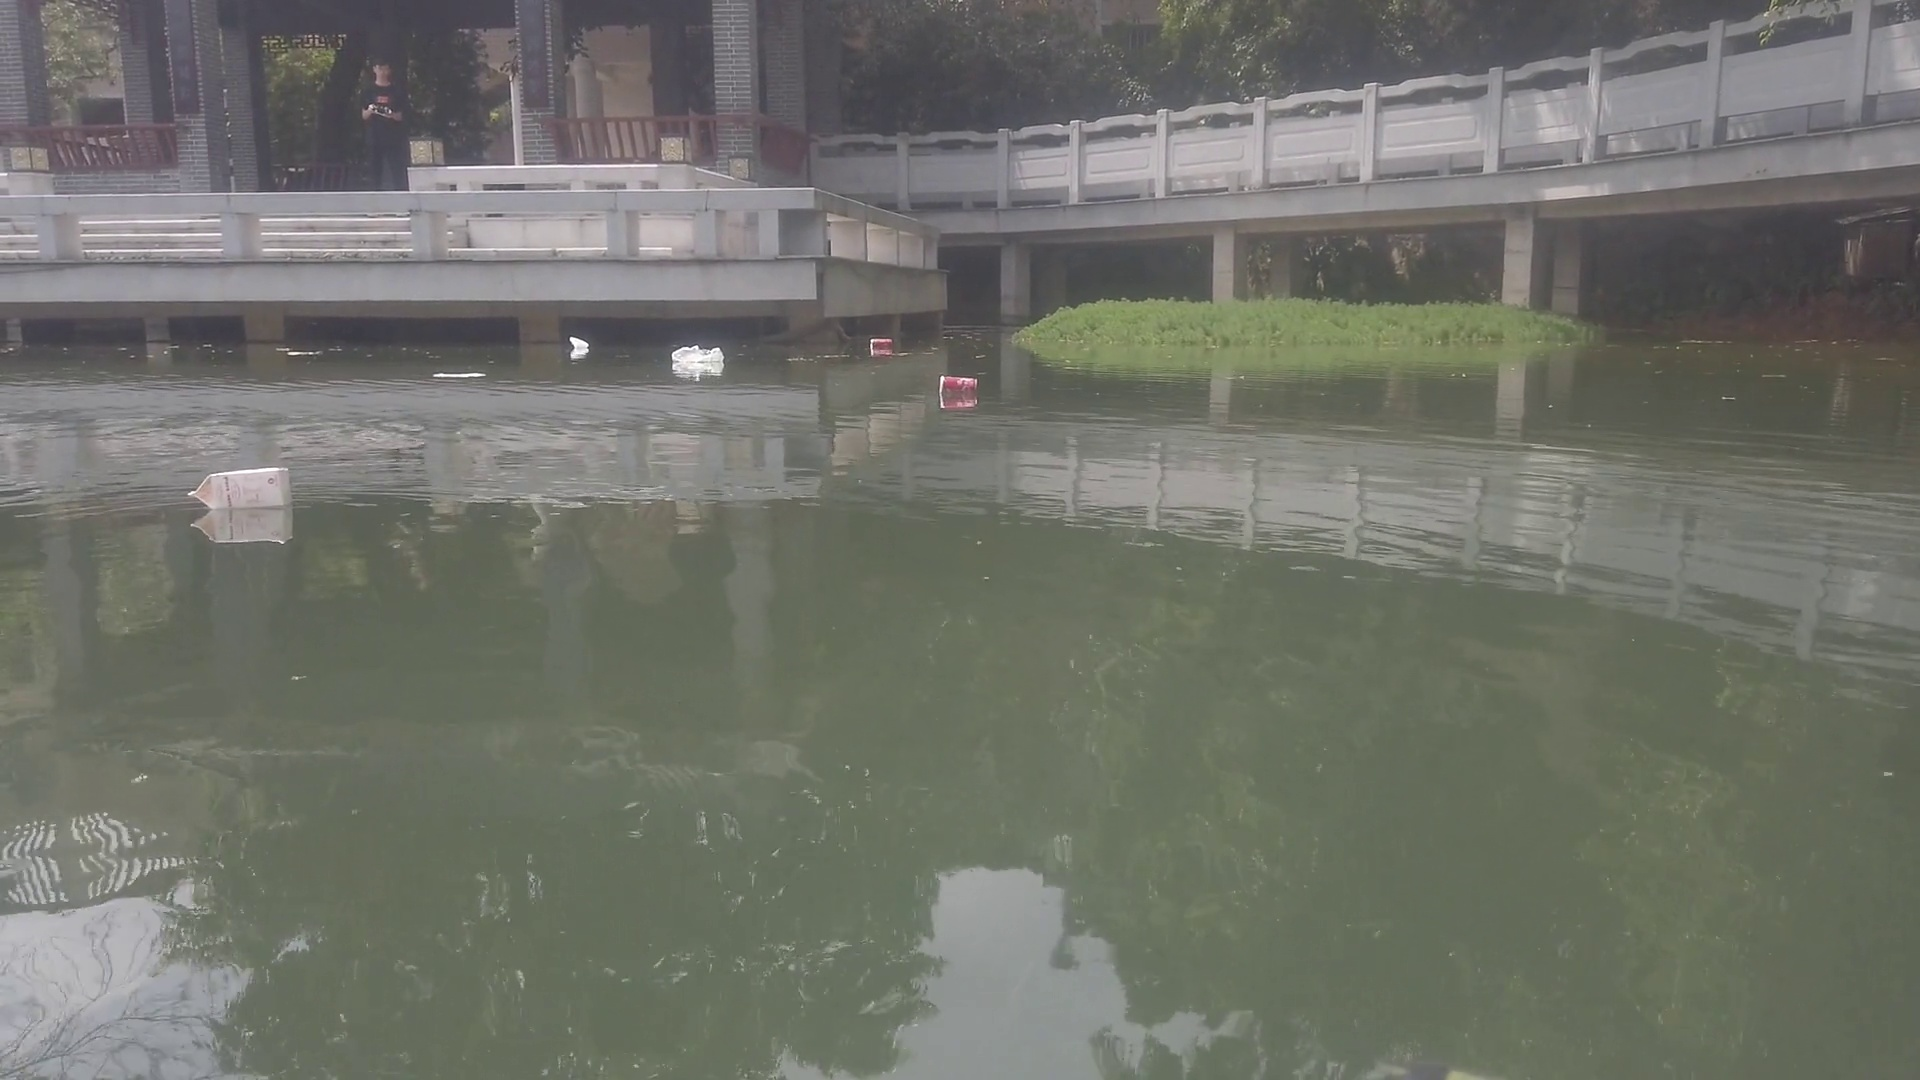bottle: (940, 373, 976, 393), (870, 338, 895, 352)
paper: (179, 465, 295, 512), (431, 367, 485, 384)
plastic: (669, 342, 727, 365), (564, 330, 592, 353)
